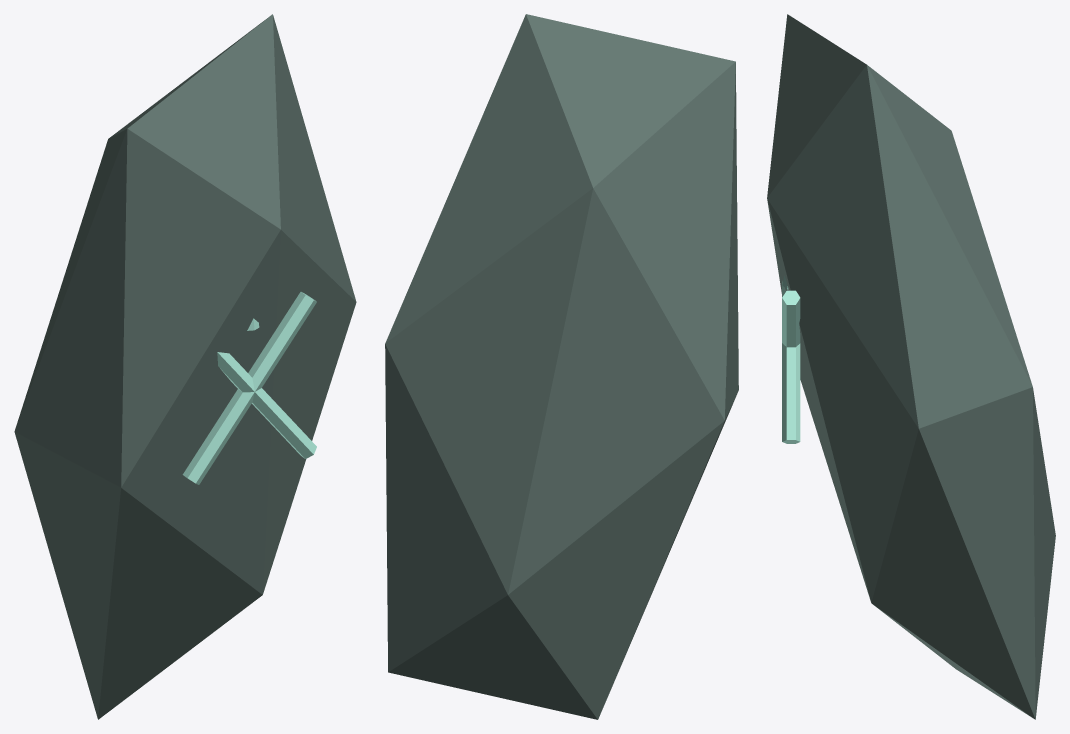
Rendered from runovy-kamen.glb.
3 renders of one model, left to right at view 1: azimuth 30°, elevation 25°; view 2: azimuth 150°, elevation 25°; view 3: azimuth 270°, elevation 25°, orthographic. The views are drawn at different scales.
Parts seen in each view (by area): view 1: material_667b75, material_b1f0df; view 2: material_667b75; view 3: material_667b75, material_b1f0df.
Boxes of the visible parts, x1,y1,x2,y2 form: material_667b75: (14, 14, 356, 719); material_b1f0df: (182, 292, 316, 484); material_667b75: (385, 14, 738, 719); material_667b75: (767, 14, 1055, 719); material_b1f0df: (782, 275, 800, 443).
Bounding box in the file's own units: 1.07 × 2.07 × 0.8172.
